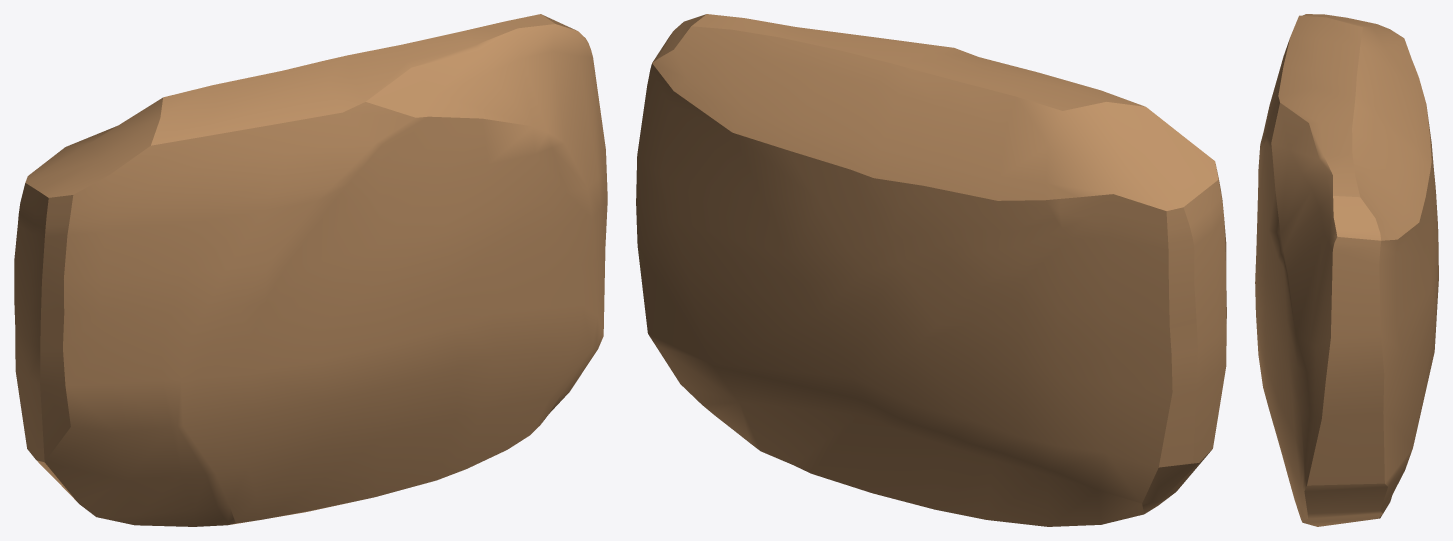
File: rock5Temp.fbx
3 renders of one model, left to right at view 1: azimuth 30°, elevation 25°; view 2: azimuth 150°, elevation 25°; view 3: azimuth 270°, elevation 25°, orthographic. The views are drawn at different scales.
Visible parts, largest first — view 1: rock5_low; view 2: rock5_low; view 3: rock5_low.
Boxes of the visible parts, x1=… form: rock5_low: x1=14, y1=14, x2=607, y2=526; rock5_low: x1=636, y1=14, x2=1226, y2=526; rock5_low: x1=1255, y1=14, x2=1438, y2=526.
Size of the model in its own units: 3.88 by 2.77 by 1.22.
